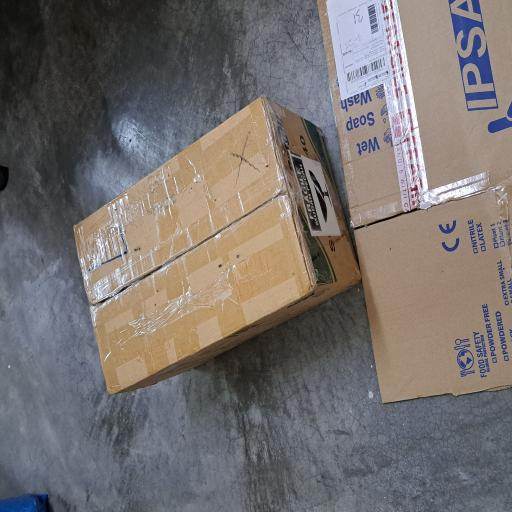cardboard: (86, 96, 314, 485), (81, 421, 384, 512)
